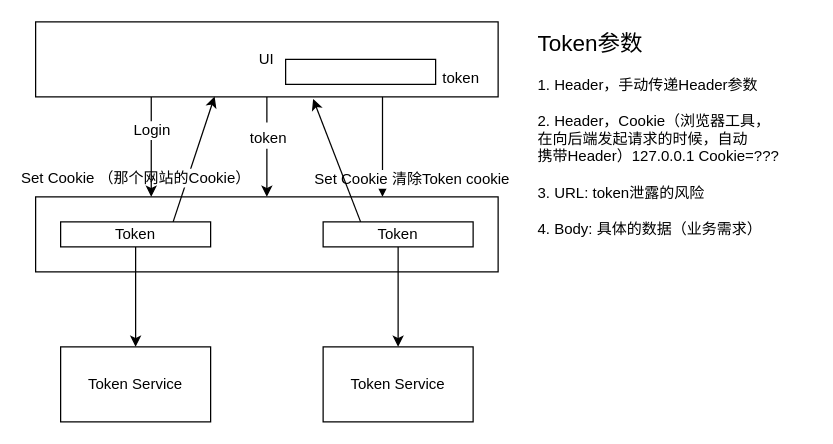
The diagram is 833 pixels wide and 444 high, and some of its shapes have lost their labels. Each missing label, with the box of its shape:
API: (34, 196, 498, 272)
cookie=token=xxxx: (284, 58, 436, 84)
